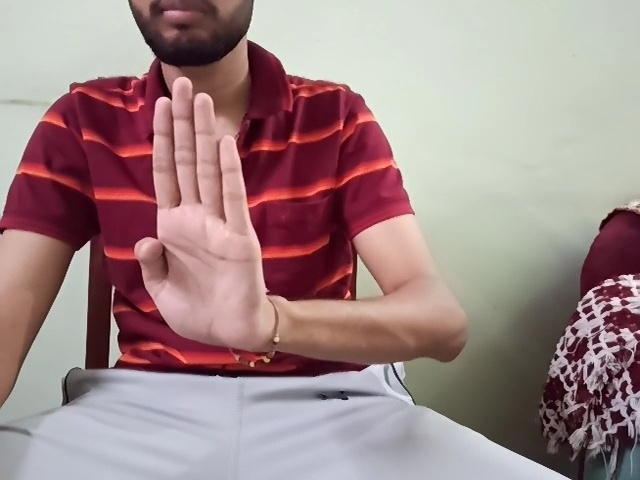B: (133, 77, 271, 354)
